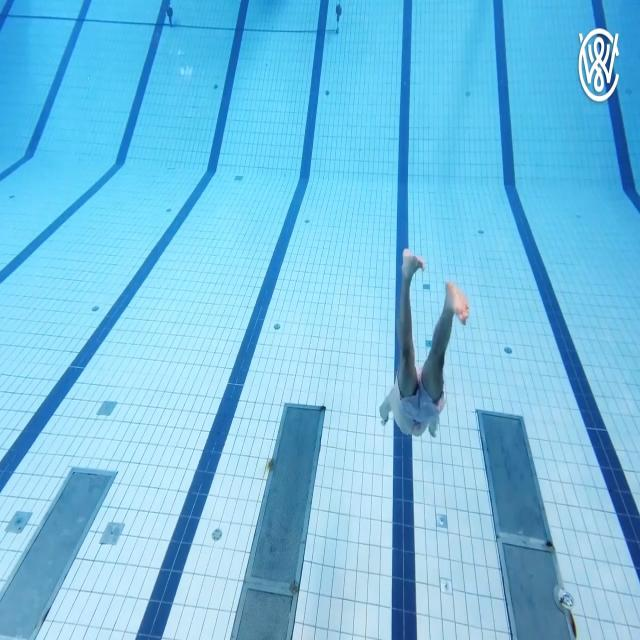Swimming: (378, 248, 471, 442)
